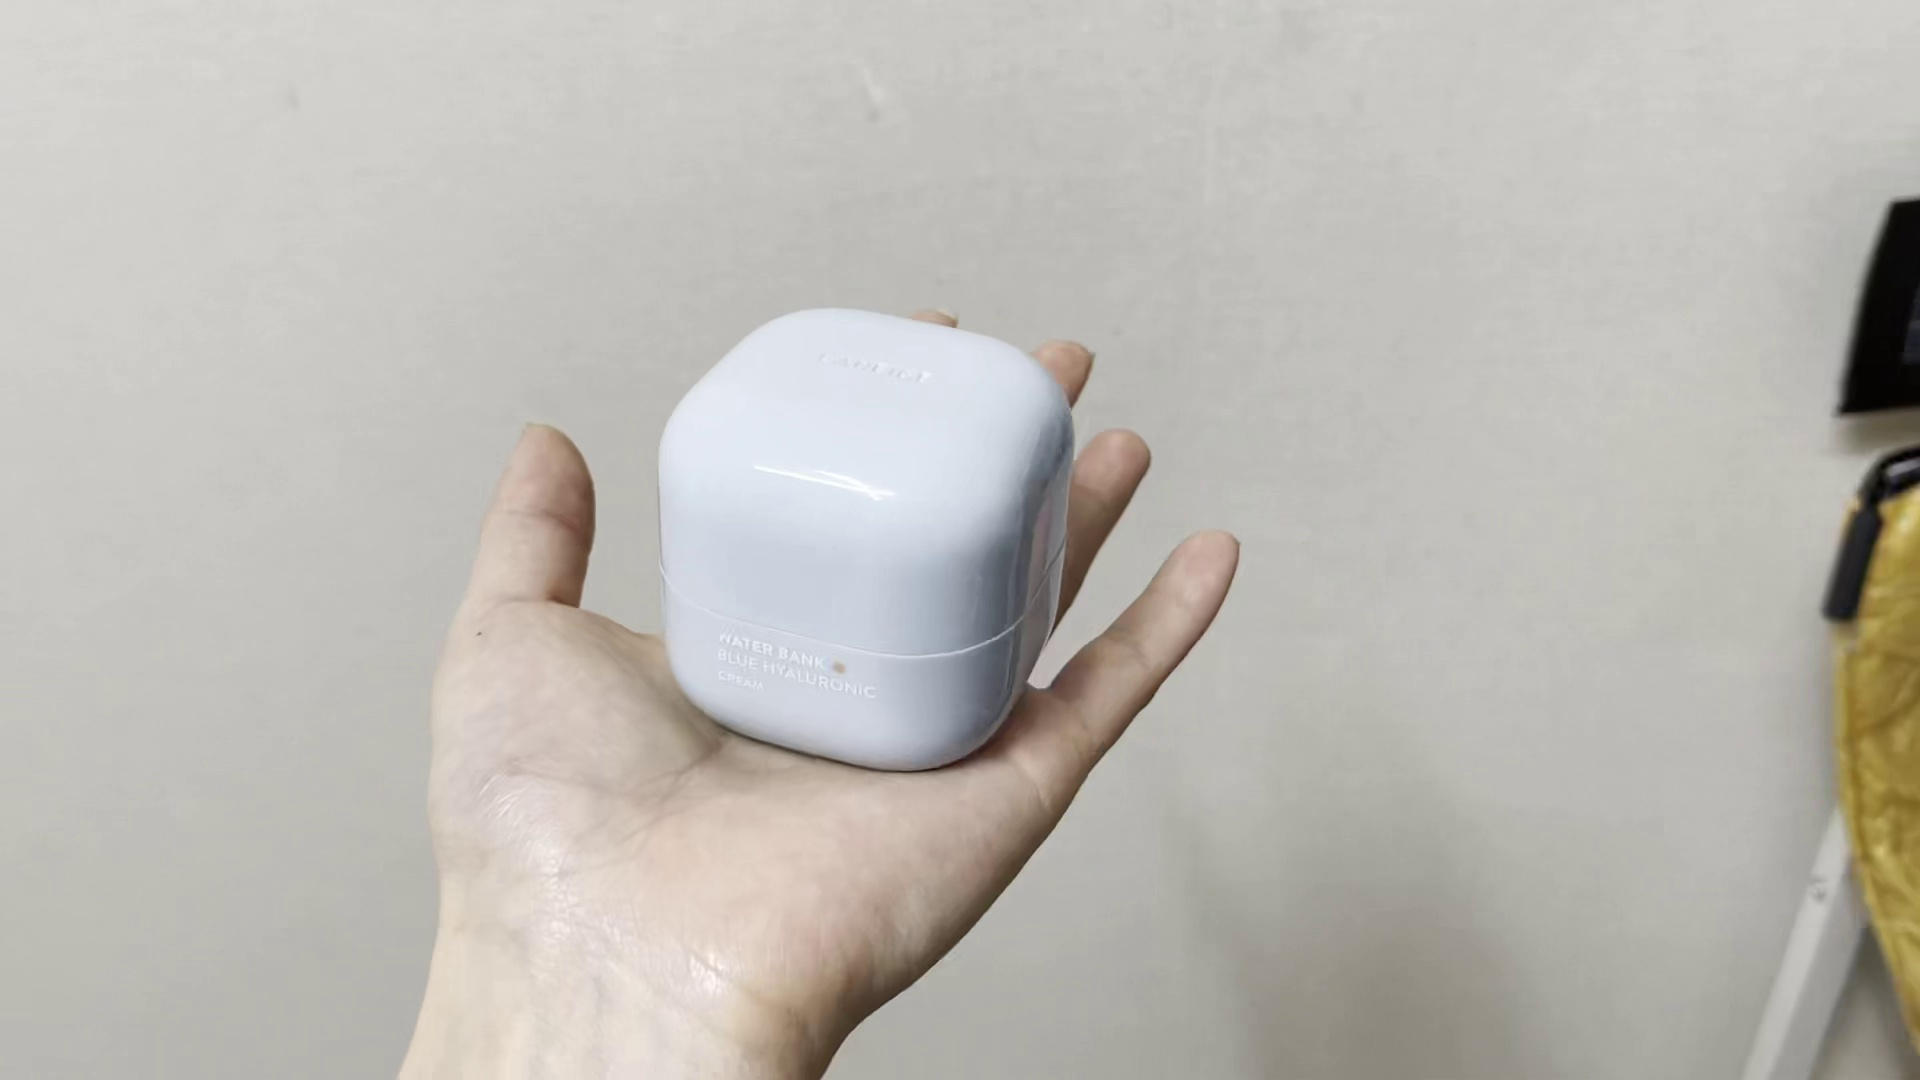cream: (654, 299, 1073, 766)
